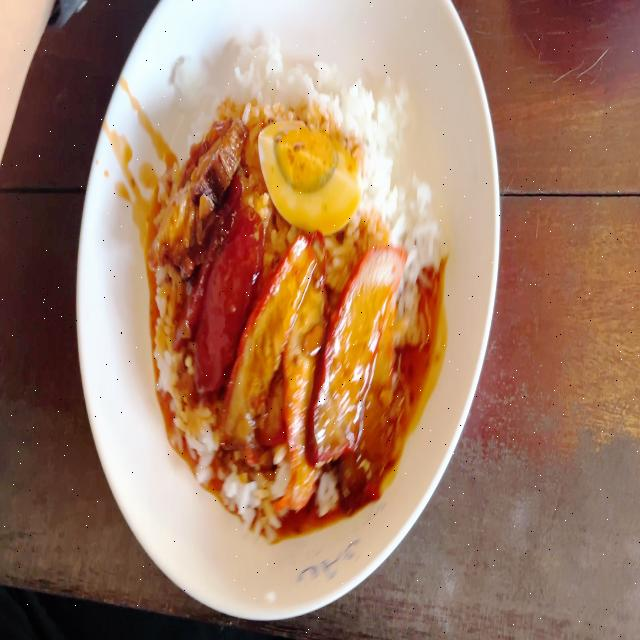boiled_egg: (261, 114, 365, 210)
chainese_sausage: (186, 185, 252, 388)
crispy_pork: (154, 109, 242, 266)
red_pork: (247, 250, 343, 490), (339, 238, 392, 458)
red_pork_and_crispy_pork: (156, 82, 438, 502)
rice: (230, 59, 409, 118), (365, 121, 441, 245), (149, 267, 182, 392)
